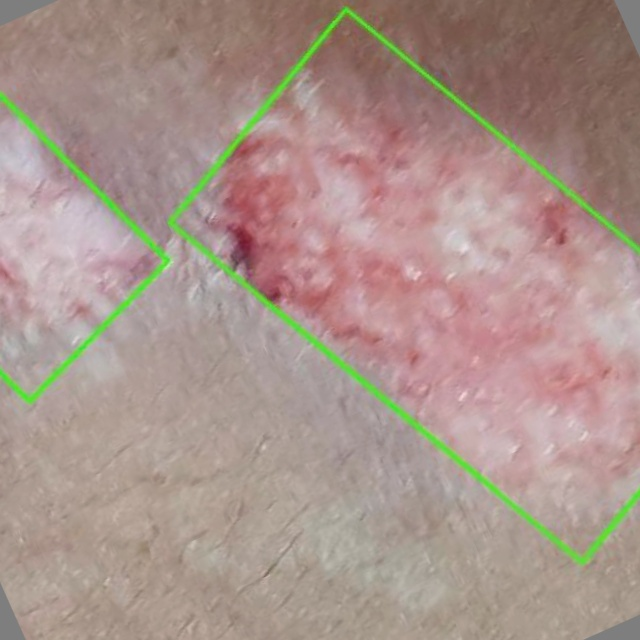Eczema: (169, 7, 639, 561)
